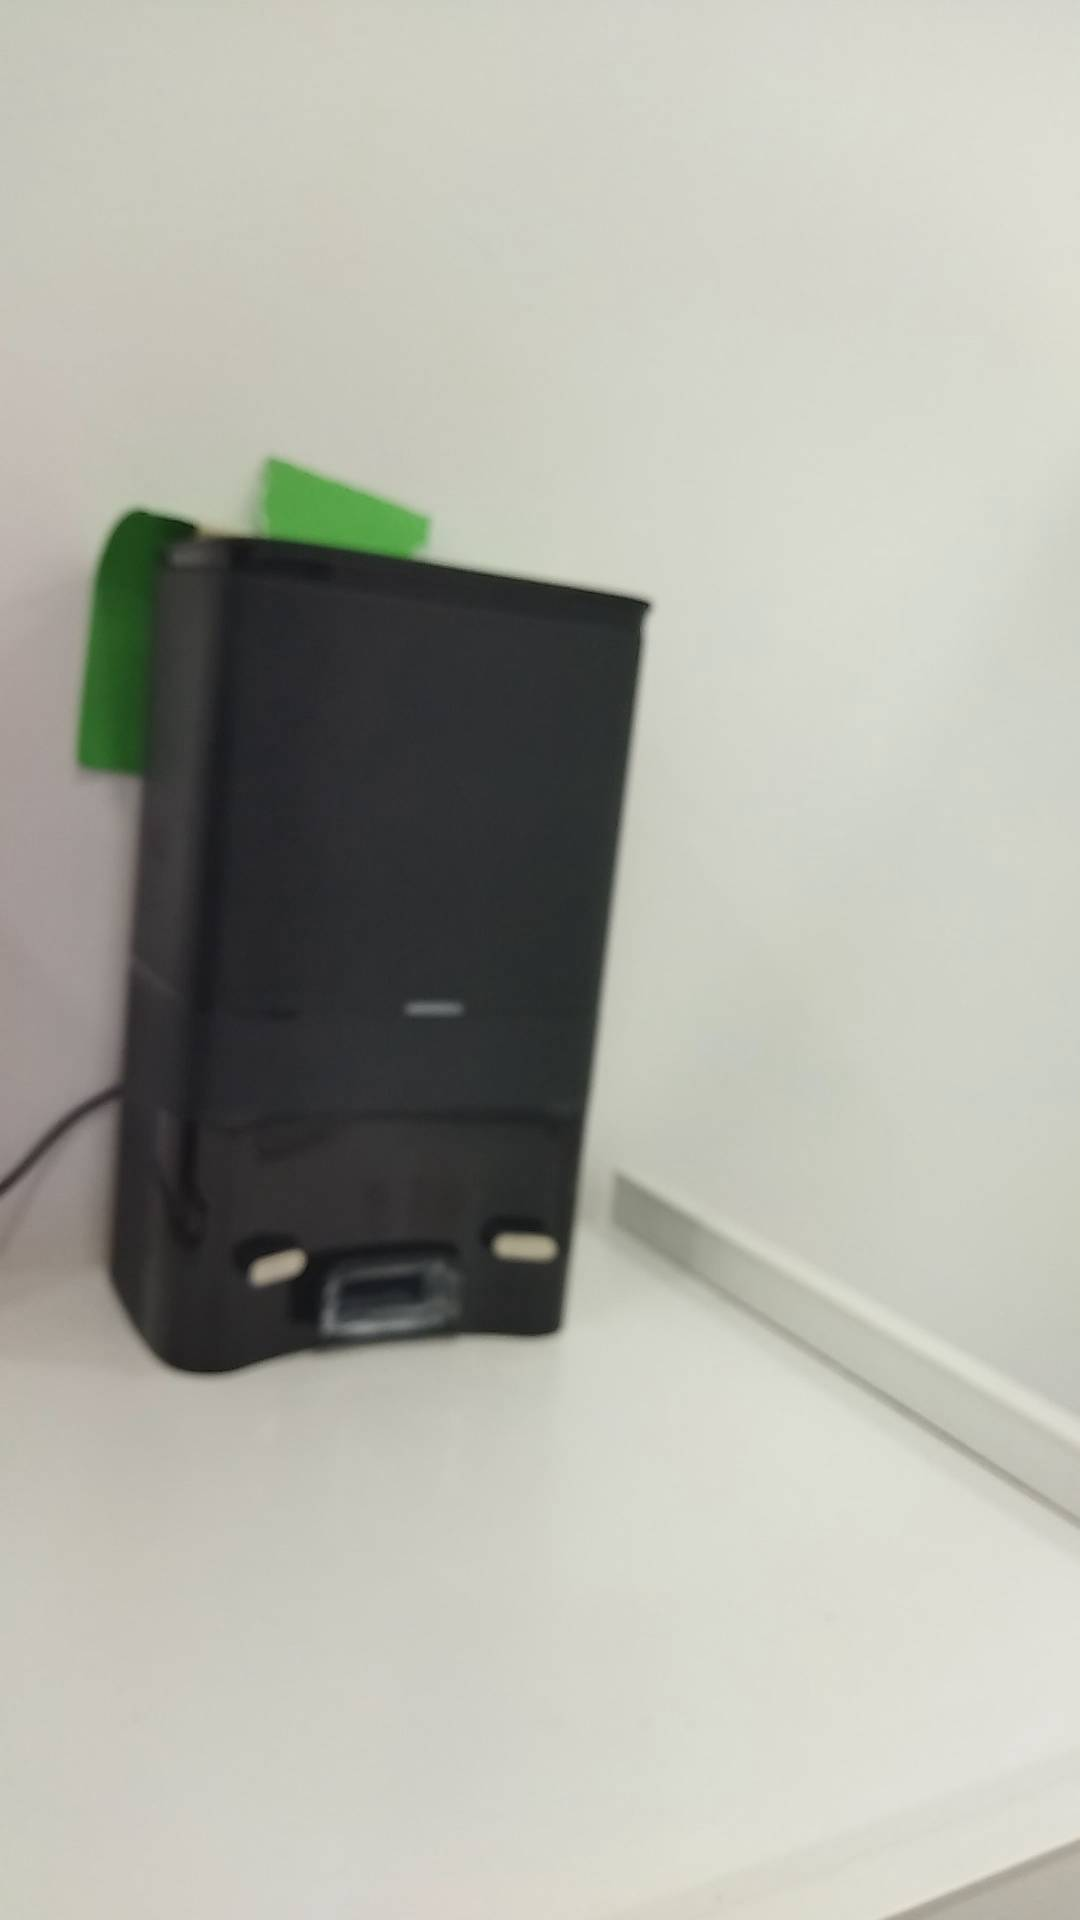dust collecting barrel: (109, 538, 653, 1379)
